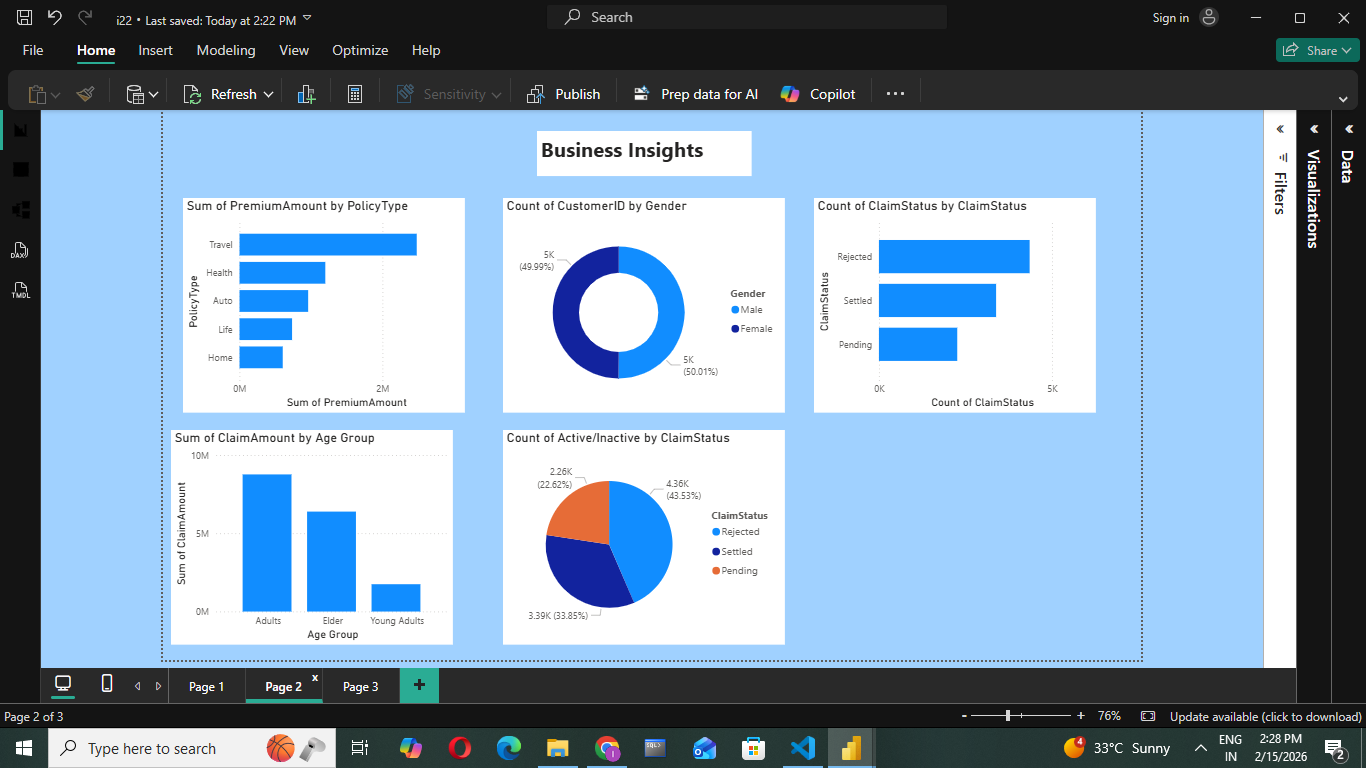

This screenshot's page, from the dashboard's own definition file:
{"tool":"powerbi","page":{"name":"Page 2","canvas":[1280,720],"ordinal":1},"visuals":[{"type":"barChart","fields":{"Category":["InsuranceData.PolicyType"],"Y":["Sum(InsuranceData.PremiumAmount)"]},"box":[26.4,114.6,368.8,280.7],"z":0},{"type":"columnChart","fields":{"Category":["InsuranceData.Age Group"],"Y":["Sum(InsuranceData.ClaimAmount)"]},"box":[10.3,418.8,368.8,280.7],"z":1000},{"type":"barChart","fields":{"Y":["CountNonNull(InsuranceData.ClaimStatus)"],"Category":["InsuranceData.ClaimStatus"]},"box":[852.2,114.6,368.8,280.7],"z":2000},{"type":"pieChart","fields":{"Y":["CountNonNull(InsuranceData.Active/Inactive)"],"Category":["InsuranceData.ClaimStatus"]},"box":[445.2,418.8,368.8,280.7],"z":3000},{"type":"donutChart","fields":{"Y":["CountNonNull(InsuranceData.CustomerID)"],"Category":["InsuranceData.Gender"]},"box":[445.2,114.6,368.8,280.7],"z":4000},{"type":"textbox","box":[489.3,27.9,280.7,58.8],"z":5000}]}

Visuals, with their boxes on the page's 1280x720 design canvas (x1, y1, x2, y2). These are canvas units, not pixel positions in the 1366x768 screenshot, which may show the page scaled, cropped or inside an application window:
barChart - InsuranceData.PolicyType x Sum(InsuranceData.PremiumAmount): box(26, 115, 395, 395)
columnChart - InsuranceData.Age Group x Sum(InsuranceData.ClaimAmount): box(10, 419, 379, 700)
barChart - CountNonNull(InsuranceData.ClaimStatus) x InsuranceData.ClaimStatus: box(852, 115, 1221, 395)
pieChart - CountNonNull(InsuranceData.Active/Inactive) x InsuranceData.ClaimStatus: box(445, 419, 814, 700)
donutChart - CountNonNull(InsuranceData.CustomerID) x InsuranceData.Gender: box(445, 115, 814, 395)
textbox: box(489, 28, 770, 87)
